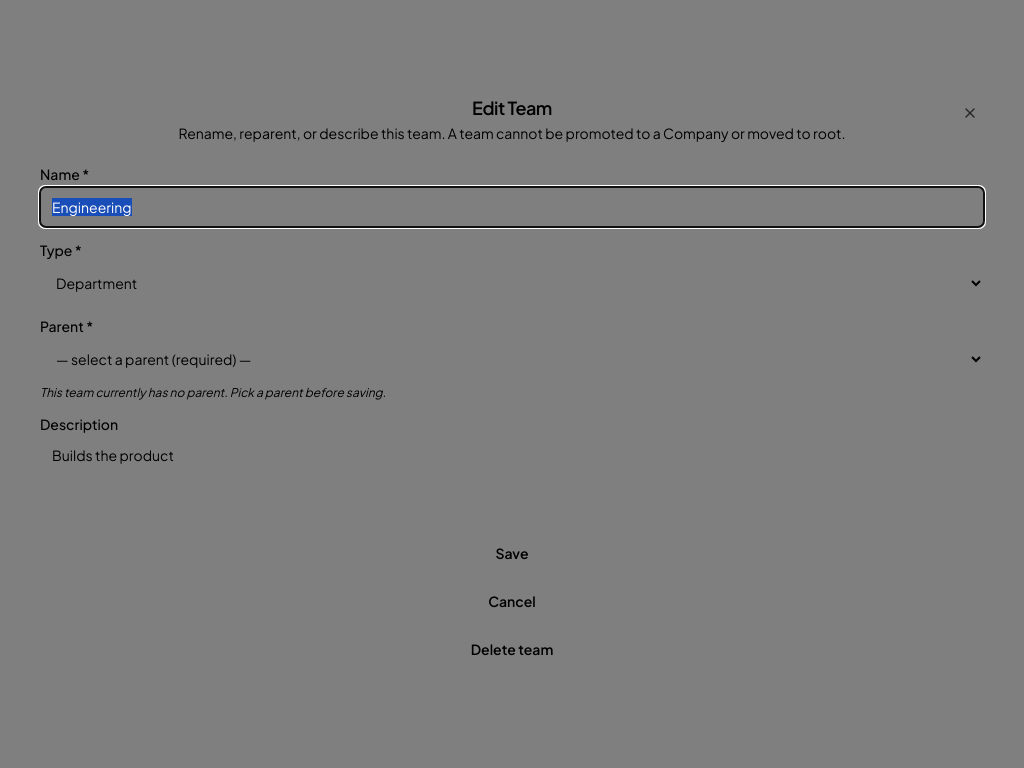
Scenario: EditTeamModal › responsive validation collects every invalid field into linked summary and inline errors
Clear the field labelled "Name *": (512, 207) x1=40 y1=187 x2=984 y2=227
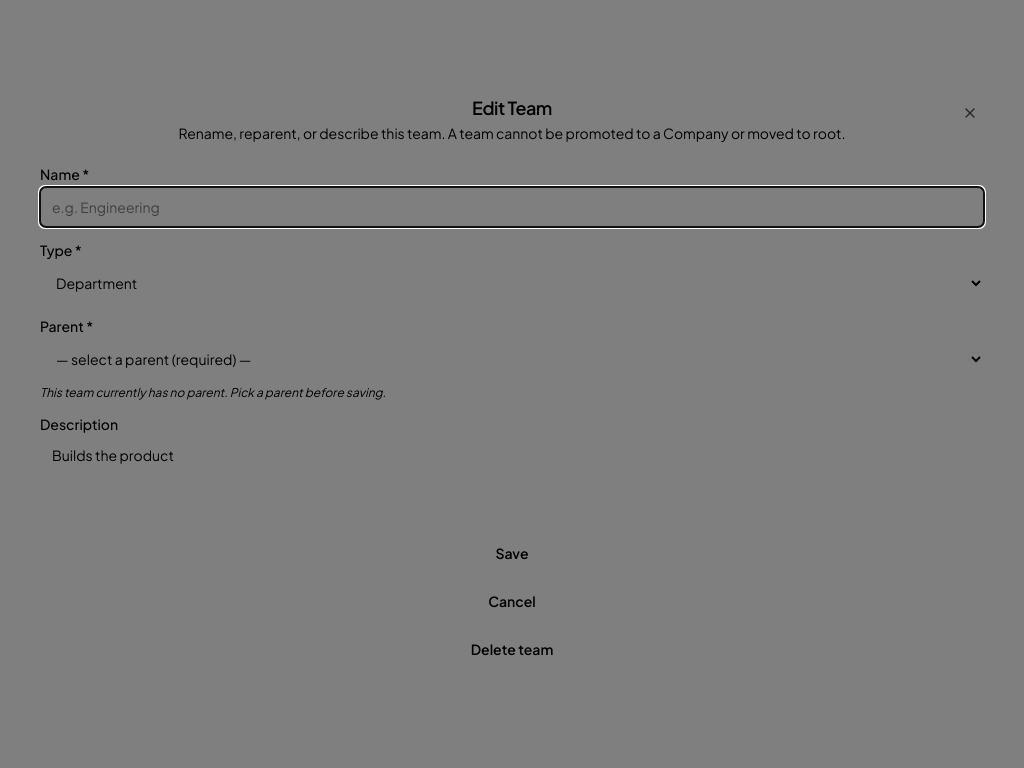
Select "Select a type…" in the dropdown with test id "select-type": (512, 283) x1=40 y1=263 x2=984 y2=303
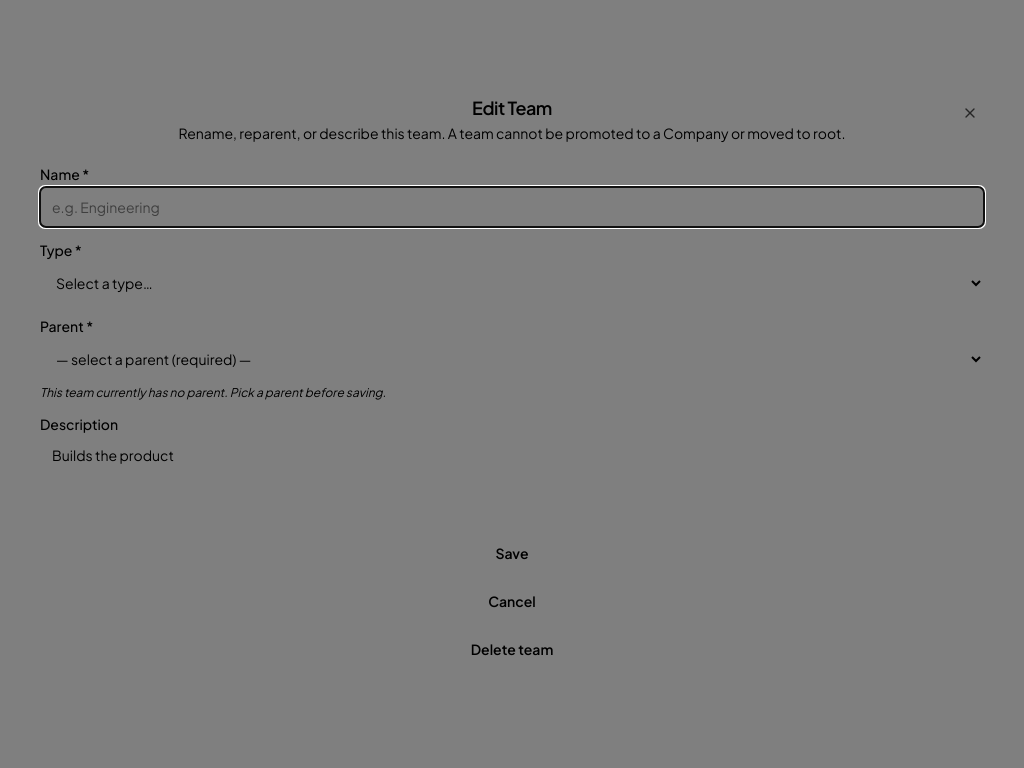
Click the button "Save": (512, 553) x1=40 y1=533 x2=984 y2=573
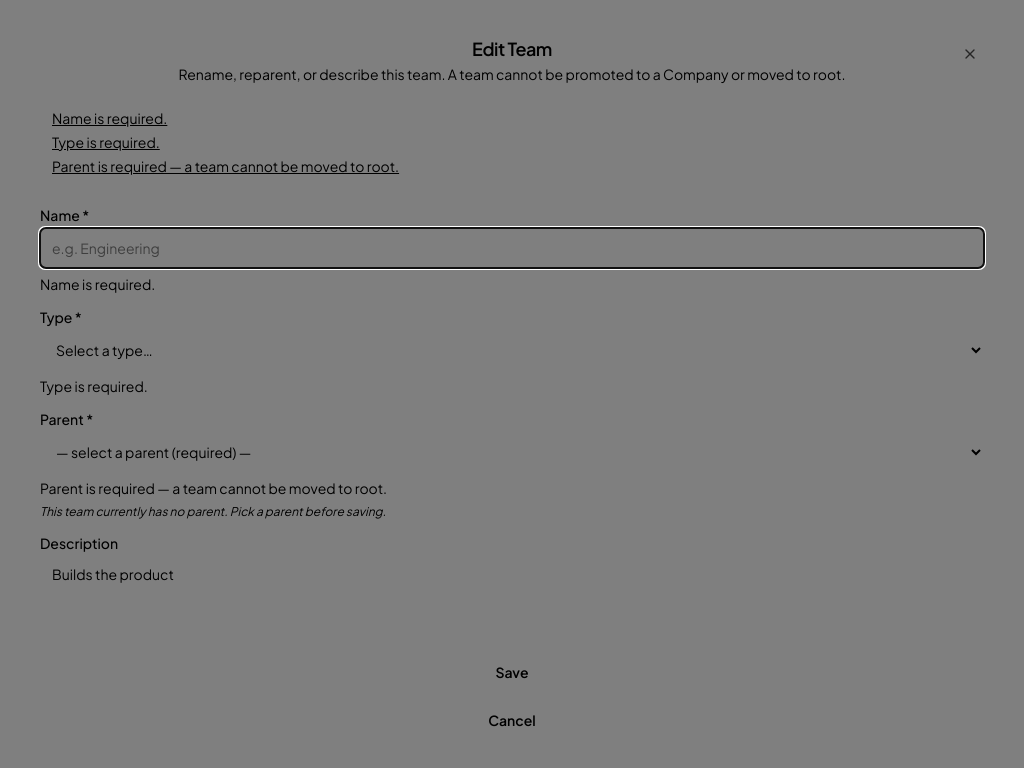
Result: the number of links "Name is required." is 2 at x1=52 y1=109 x2=167 y2=127; x1=40 y1=275 x2=155 y2=293
Result: the number of links "Type is required." is 2 at x1=52 y1=133 x2=160 y2=151; x1=40 y1=377 x2=148 y2=395
Result: the number of links "Parent is required — a team cannot be moved to root." is 2 at x1=52 y1=157 x2=399 y2=175; x1=40 y1=479 x2=387 y2=497
